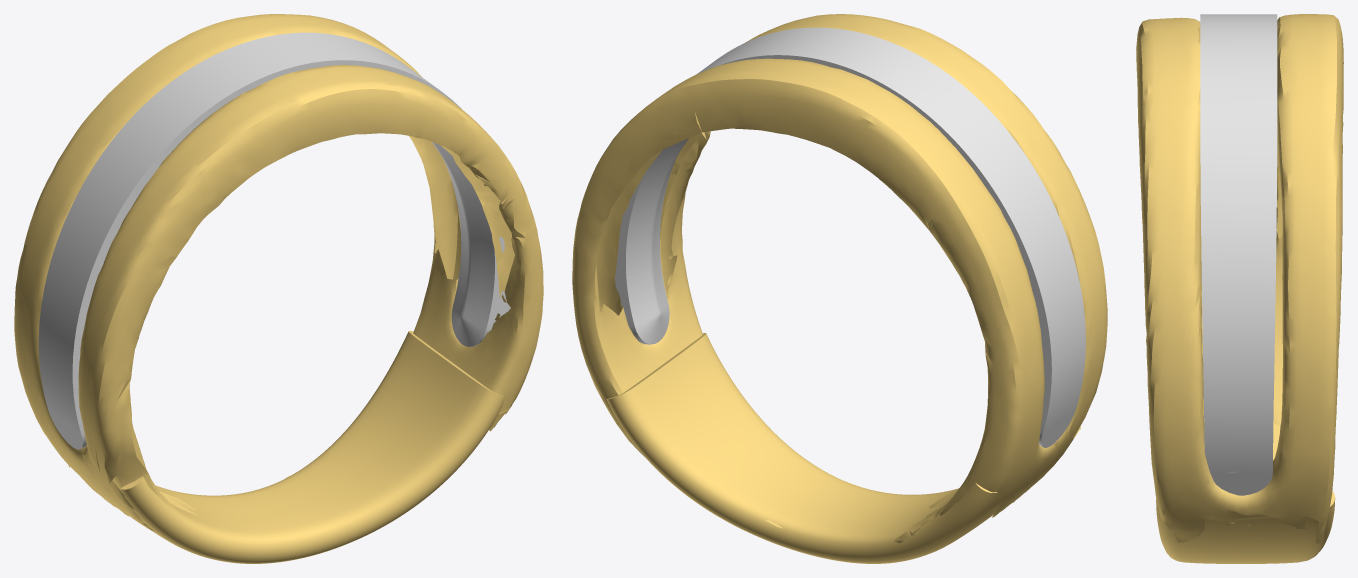
File: RussellYGband_blender.glb
3 renders of one model, left to right at view 1: azimuth 30°, elevation 25°; view 2: azimuth 150°, elevation 25°; view 3: azimuth 270°, elevation 25°, orthographic. The views are drawn at different scales.
Visible parts, largest first — view 1: Russell YG for 3d model, Russell PT insert for 3d model; view 2: Russell YG for 3d model, Russell PT insert for 3d model; view 3: Russell YG for 3d model, Russell PT insert for 3d model.
Boxes of the visible parts, <box> form: Russell YG for 3d model: <box>14,14,543,563</box>; Russell PT insert for 3d model: <box>38,32,510,449</box>; Russell YG for 3d model: <box>572,14,1107,563</box>; Russell PT insert for 3d model: <box>615,27,1085,447</box>; Russell YG for 3d model: <box>1136,14,1343,563</box>; Russell PT insert for 3d model: <box>1200,14,1277,495</box>.
Size of the model in its own units: 22.71 by 23.52 by 8.81.
